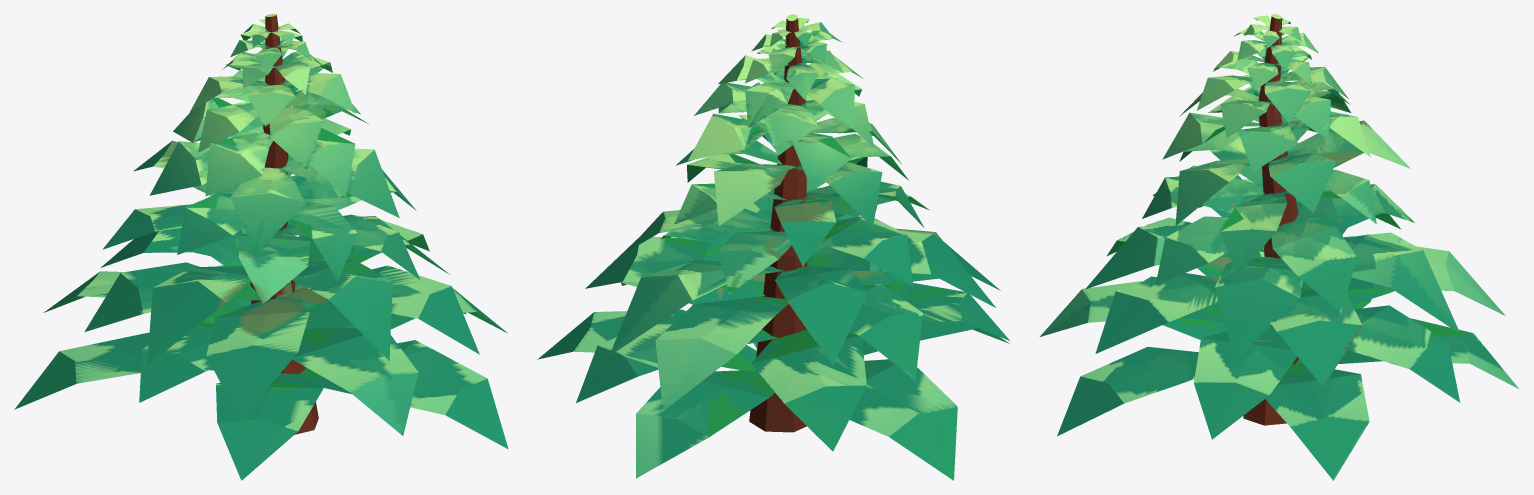
Rendered from Feathered Tree_1.fbx.
3 renders of one model, left to right at view 1: azimuth 30°, elevation 25°; view 2: azimuth 150°, elevation 25°; view 3: azimuth 270°, elevation 25°, orthographic. The views are drawn at different scales.
Visible parts, largest first — view 1: Feathered Tree; view 2: Feathered Tree; view 3: Feathered Tree.
Boxes of the visible parts, x1,y1,x2,y2 form: Feathered Tree: (14,14,508,480); Feathered Tree: (537,14,1009,480); Feathered Tree: (1040,14,1518,480).
Bounding box in the file's own units: 1537 × 1380 × 1537.
